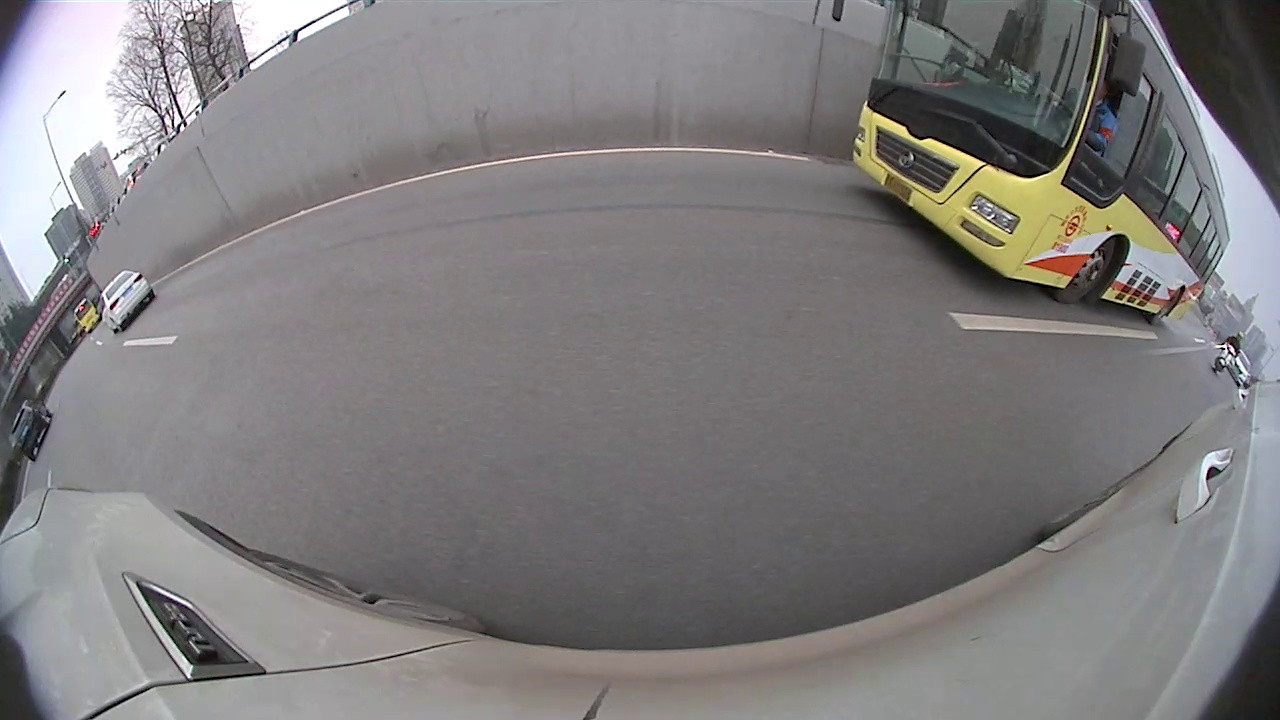bus: (850, 1, 1231, 326)
car: (98, 268, 154, 330), (9, 403, 54, 460)
front: (1047, 235, 1128, 309)
rear: (1145, 287, 1185, 329)
rider: (1209, 332, 1243, 374)
